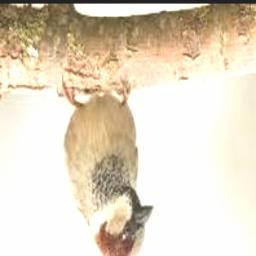Sparrow: (58, 74, 154, 256)
